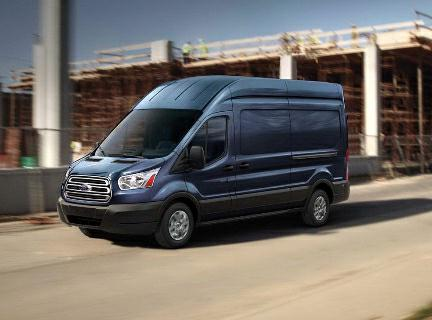福特-Transit: (49, 76, 354, 250)
